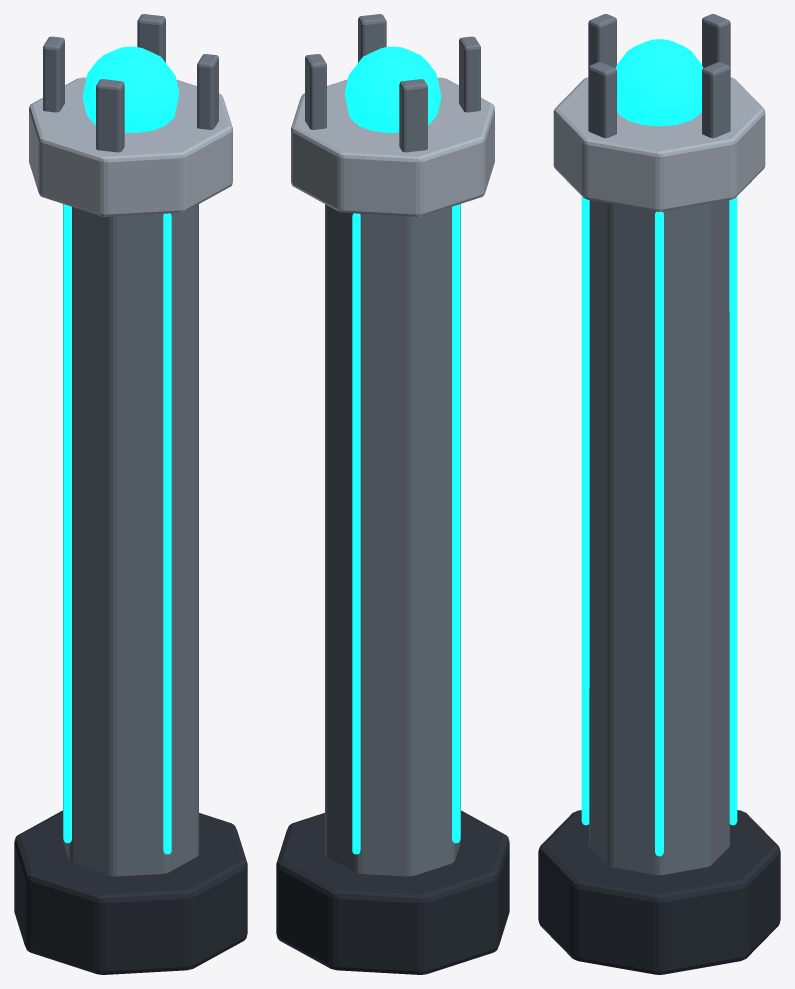
File: shield_pylon_column.glb
3 views of the same model, side by side, from view 1: azimuth 30°, elevation 25°; view 2: azimuth 150°, elevation 25°; view 3: azimuth 270°, elevation 25° (orthographic).
Parts seen in each view (by area): view 1: Pylon_Shaft, Pylon_Collar, Head_Capital, NeonSpine_3, NeonSpine_2, Emitter_Core, Claw_2, Claw_1, Claw_3, Claw_0; view 2: Pylon_Shaft, Pylon_Collar, Head_Capital, NeonSpine_1, NeonSpine_2, Emitter_Core, Claw_1, Claw_2, Claw_0, Claw_3; view 3: Pylon_Shaft, Pylon_Collar, Head_Capital, Emitter_Core, NeonSpine_0, NeonSpine_1, NeonSpine_3, Claw_0, Claw_3, Claw_1, Claw_2.
Boxes of the visible parts, x1,y1,x2,y2 form: Pylon_Shaft: [63, 204, 198, 876]; Pylon_Collar: [14, 810, 247, 974]; Head_Capital: [29, 77, 232, 216]; NeonSpine_3: [163, 213, 171, 854]; NeonSpine_2: [63, 204, 71, 843]; Emitter_Core: [82, 46, 179, 132]; Claw_2: [96, 79, 124, 152]; Claw_1: [43, 36, 64, 112]; Claw_3: [197, 54, 218, 129]; Claw_0: [137, 14, 165, 62]; Pylon_Shaft: [325, 204, 460, 876]; Pylon_Collar: [276, 810, 509, 974]; Head_Capital: [291, 77, 494, 216]; NeonSpine_1: [352, 213, 360, 854]; NeonSpine_2: [452, 204, 460, 843]; Emitter_Core: [344, 46, 441, 132]; Claw_1: [399, 79, 427, 152]; Claw_2: [459, 36, 480, 112]; Claw_0: [305, 54, 326, 129]; Claw_3: [358, 14, 386, 62]; Pylon_Shaft: [589, 200, 729, 875]; Pylon_Collar: [538, 810, 780, 974]; Head_Capital: [553, 77, 765, 211]; Emitter_Core: [616, 39, 702, 126]; NeonSpine_0: [655, 211, 663, 856]; NeonSpine_1: [729, 196, 737, 825]; NeonSpine_3: [581, 196, 589, 825]; Claw_0: [702, 62, 730, 138]; Claw_3: [588, 62, 616, 138]; Claw_1: [702, 14, 730, 67]; Claw_2: [588, 14, 616, 67].
Bounding box in the file's own units: 1.09 × 4.38 × 1.09.
